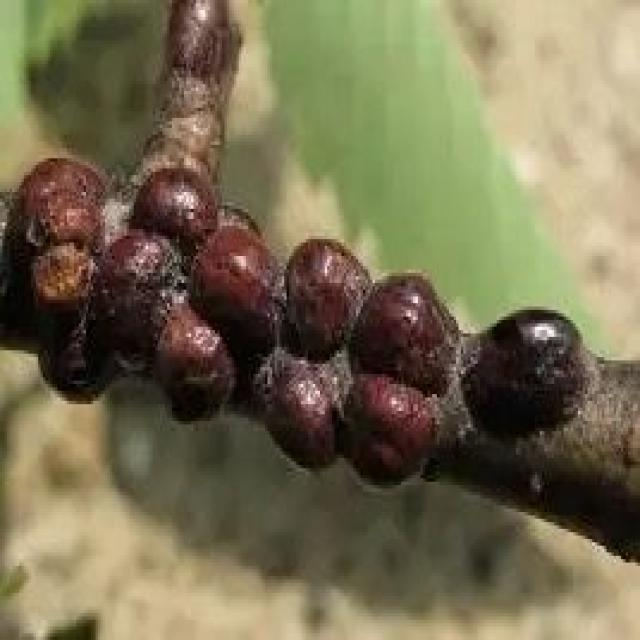BlackScale: (16, 158, 454, 468), (466, 306, 578, 434), (162, 0, 242, 84)
